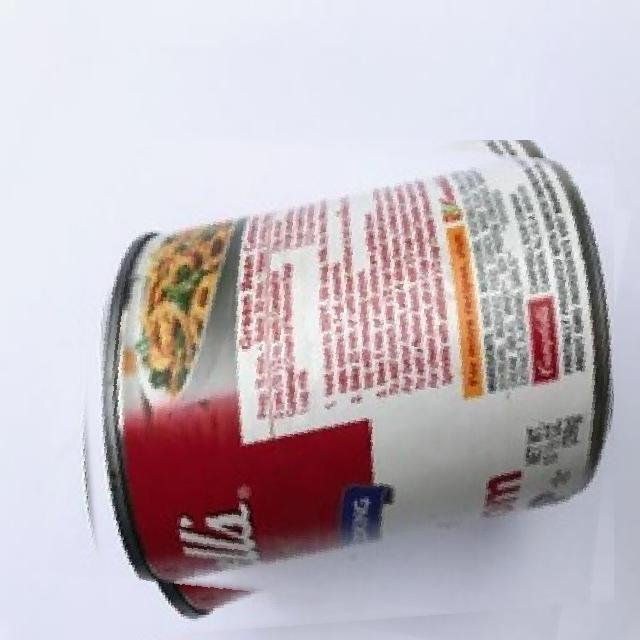recyclable: (64, 140, 614, 640)
